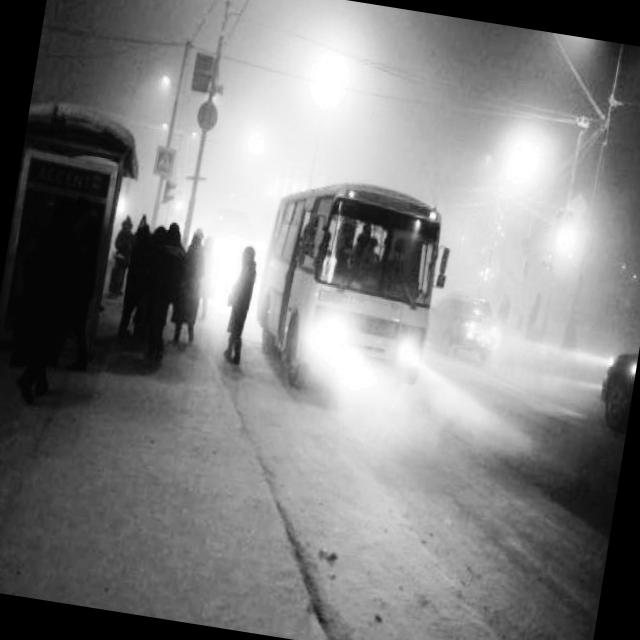Bus: (242, 145, 468, 428)
Car: (440, 275, 530, 394)
